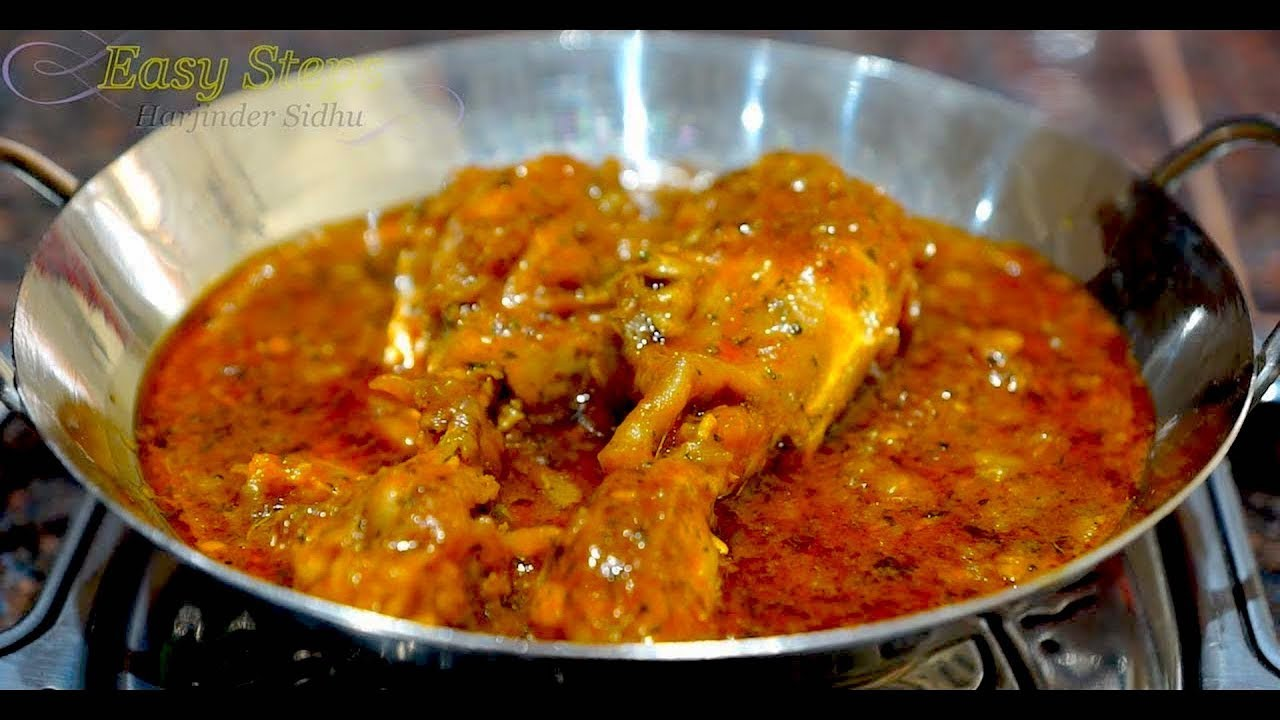chicken_curry: (200, 154, 1120, 623)
